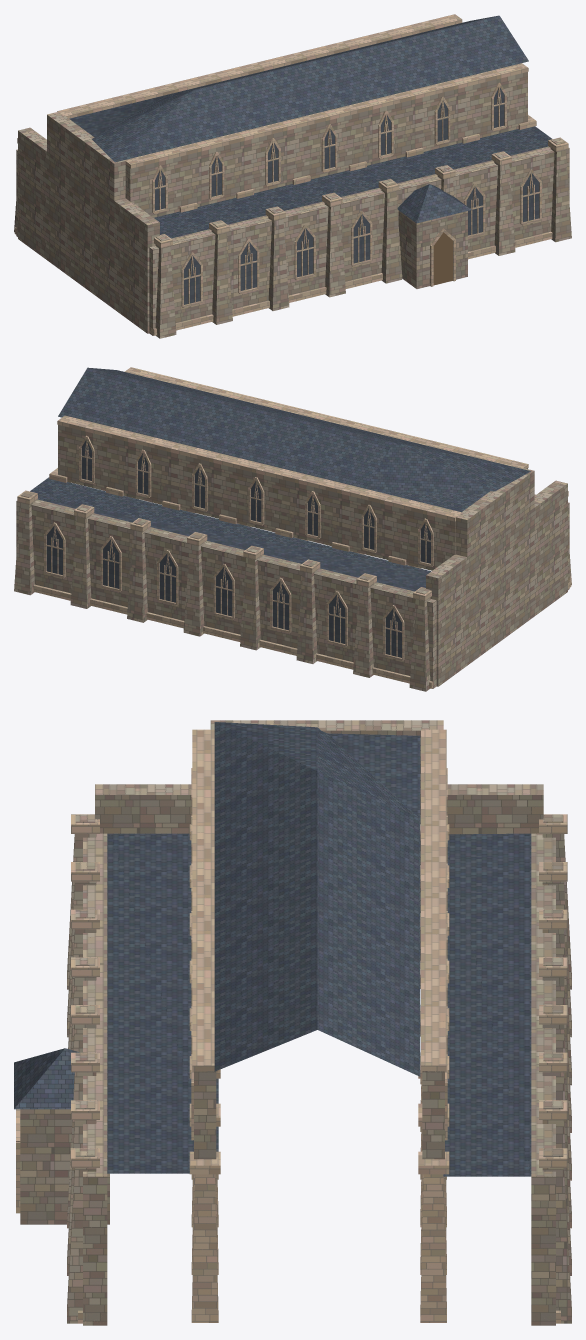
The picture shows the model from 3 angles, top to bottom: view 1: azimuth 30°, elevation 25°; view 2: azimuth 150°, elevation 25°; view 3: azimuth 270°, elevation 25°; orthographic projection. The views are drawn at different scales.
Visible parts, largest first — view 1: Plane003, Nave south aisle wall001, Nave west front001, Nave south clerestory wall001, Plane001, Nave North clerestory wallhead coping001, Nave South clerestory wallhead coping001, South porch south wall001, Nave south plinth course001, South porch pitched roof001, Nave South buttress 009, Nave South buttress 003 (+14 smaller); view 2: Plane003, Nave north aisle wall001, Nave west front001, Nave north clerestory wall001, Plane002, Nave North clerestory wallhead coping001, Nave South clerestory wallhead coping001, Nave north plinth course001, Nave North buttress 007, Nave North buttress 009, Nave North buttress 003, Nave North buttress 004 (+11 smaller); view 3: Plane003, Plane002, Plane001, Nave west front001, Nave north aisle wall001, Nave south aisle wall001, Nave North clerestory wallhead coping001, Nave South clerestory wallhead coping001, South porch east cheek001, Nave South inner arcade pier 009, Nave North inner arcade pier 009, South porch pitched roof001 (+16 smaller).
Boxes of the visible parts, <box> form: Plane003: <box>69,15,528,162</box>; Nave south aisle wall001: <box>149,146,569,335</box>; Nave west front001: <box>18,112,159,333</box>; Nave south clerestory wall001: <box>125,72,527,217</box>; Plane001: <box>154,126,552,238</box>; Nave North clerestory wallhead coping001: <box>57,14,462,118</box>; Nave South clerestory wallhead coping001: <box>124,63,528,168</box>; South porch south wall001: <box>411,211,467,288</box>; Nave south plinth course001: <box>149,231,552,335</box>; South porch pitched roof001: <box>397,184,471,223</box>; Nave South buttress 009: <box>550,138,571,242</box>; Nave South buttress 003: <box>211,221,232,324</box>; Plane003: <box>58,367,530,512</box>; Nave north aisle wall001: <box>16,499,436,688</box>; Nave west front001: <box>426,468,567,686</box>; Nave north clerestory wall001: <box>58,425,455,570</box>; Plane002: <box>30,477,430,591</box>; Nave North clerestory wallhead coping001: <box>57,415,461,521</box>; Nave South clerestory wallhead coping001: <box>124,367,528,468</box>; Nave north plinth course001: <box>33,584,432,688</box>; Nave North buttress 007: <box>127,519,148,622</box>; Nave North buttress 009: <box>14,491,35,595</box>; Nave North buttress 003: <box>353,574,374,677</box>; Nave North buttress 004: <box>296,560,317,663</box>; Plane003: <box>214,722,420,1076</box>; Plane002: <box>443,833,531,1176</box>; Plane001: <box>107,833,218,1173</box>; Nave west front001: <box>95,720,543,960</box>; Nave north aisle wall001: <box>531,833,555,1325</box>; Nave south aisle wall001: <box>83,833,107,1325</box>; Nave North clerestory wallhead coping001: <box>421,729,446,1072</box>; Nave South clerestory wallhead coping001: <box>192,729,217,1072</box>; South porch east cheek001: <box>20,1109,109,1224</box>; Nave South inner arcade pier 009: <box>191,1174,218,1322</box>; Nave North inner arcade pier 009: <box>420,1174,446,1322</box>; South porch pitched roof001: <box>14,1048,79,1109</box>.
Bounding box in the file's own units: 39.17 × 15.18 × 26.13.
Materials: 5 (3 with a texture image).
